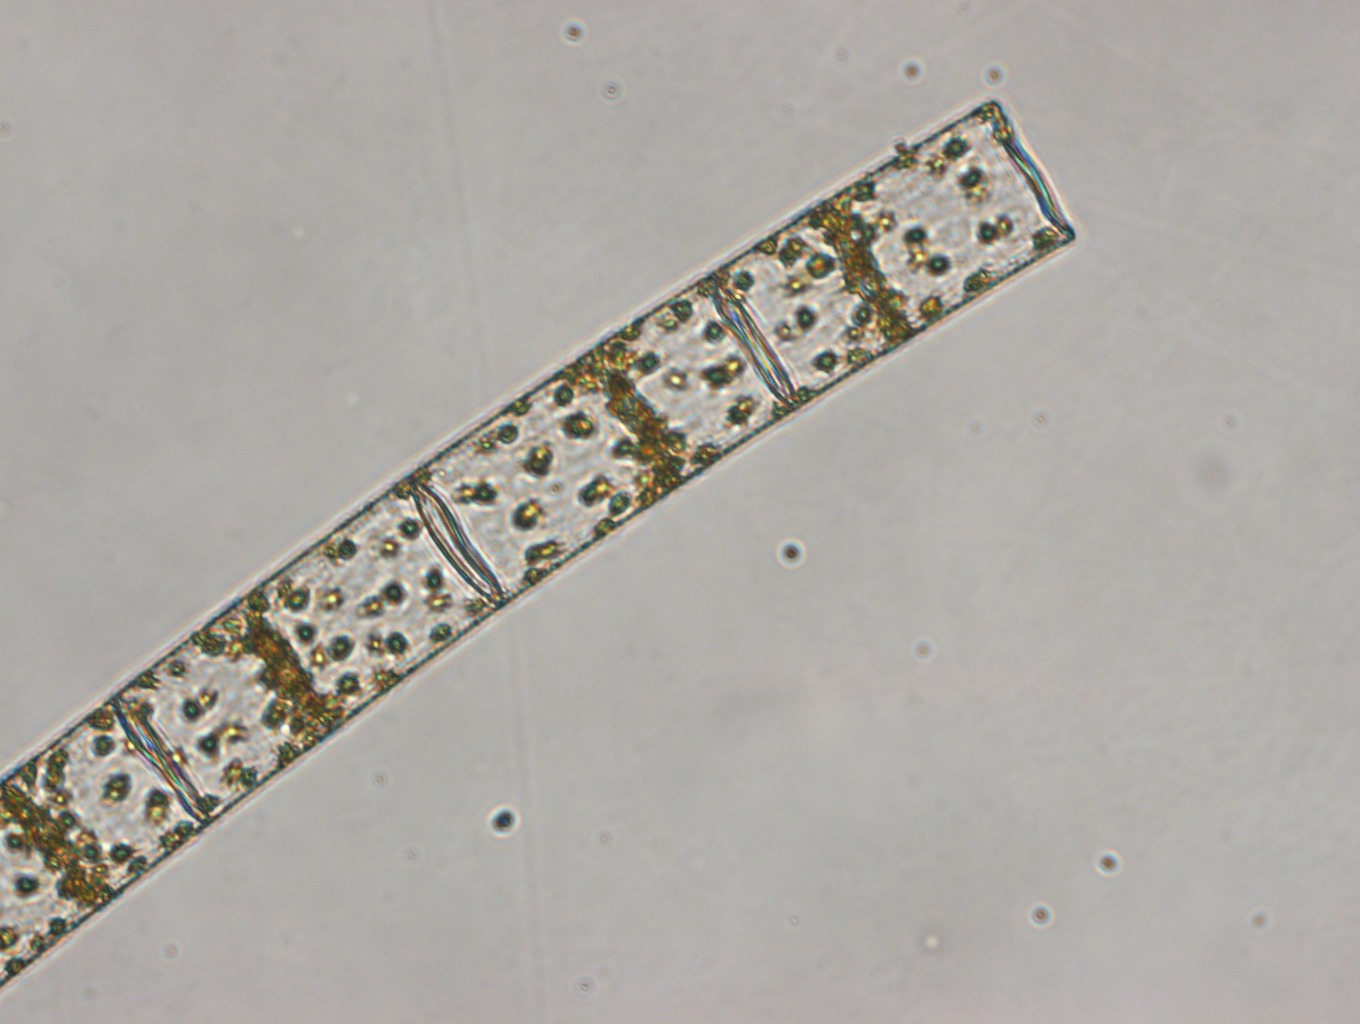guinardia flaccida: (1, 94, 1078, 989)
